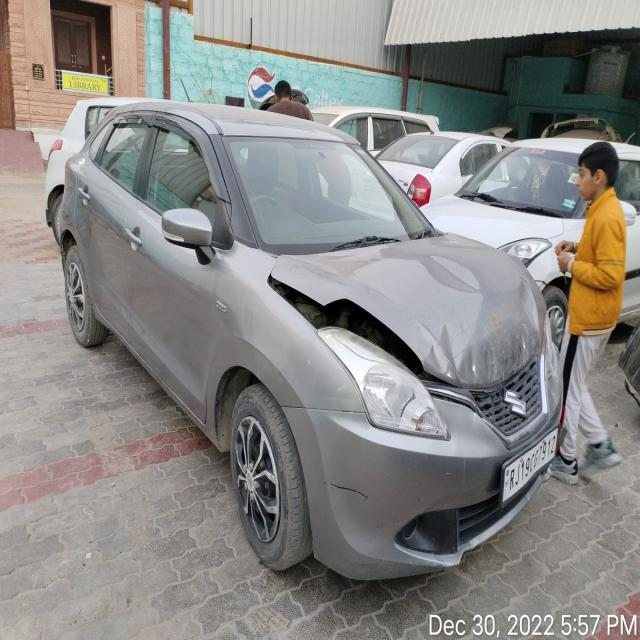damage: (268, 276, 462, 389), (417, 279, 541, 387), (421, 253, 487, 294), (324, 480, 370, 502)
